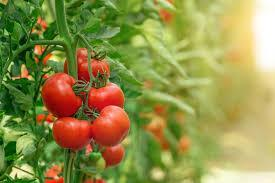healthy-tomato: (67, 48, 111, 99), (42, 74, 84, 119), (91, 106, 132, 152), (52, 118, 94, 152), (89, 75, 124, 113), (98, 145, 126, 170)
